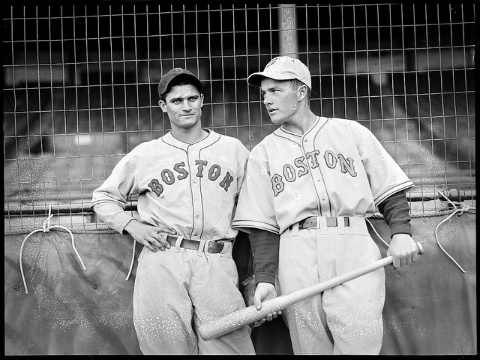hand: (134, 226, 179, 253), (386, 234, 417, 268)
